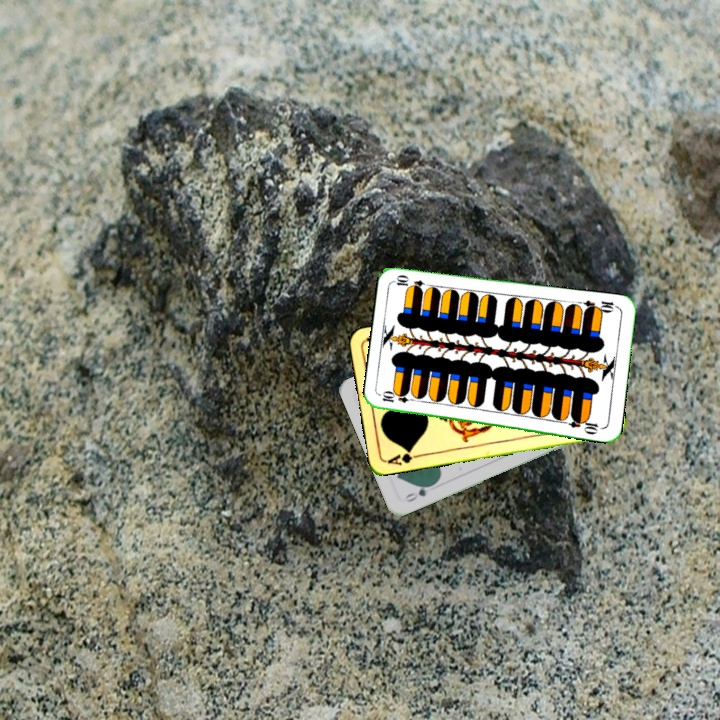E10: (580, 296, 620, 316), (378, 390, 419, 406)
GA: (383, 446, 424, 468)
GO: (400, 480, 437, 505)
